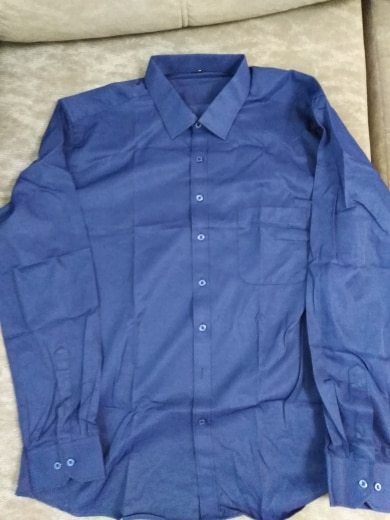shirts: (12, 59, 390, 501)
